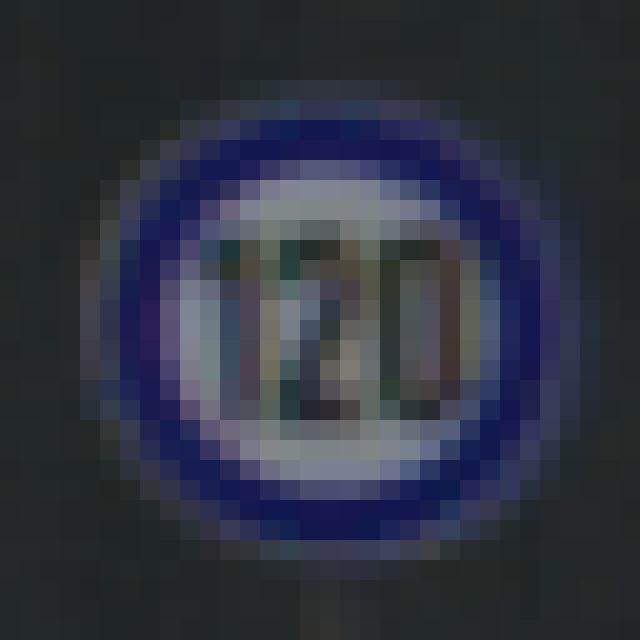SPEED LIMIT 120: (80, 87, 570, 564)
